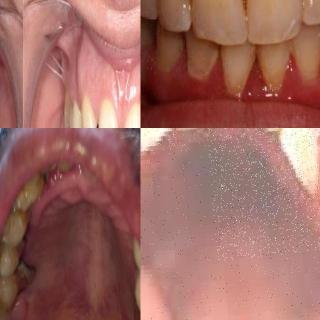Gum Swelling: (157, 52, 320, 104)
calculus: (182, 41, 221, 91), (6, 255, 36, 303), (13, 200, 32, 236), (12, 237, 32, 265), (38, 159, 54, 188)
plaque: (280, 37, 304, 65), (285, 127, 320, 146), (314, 31, 320, 63)
stains: (9, 261, 36, 301)
